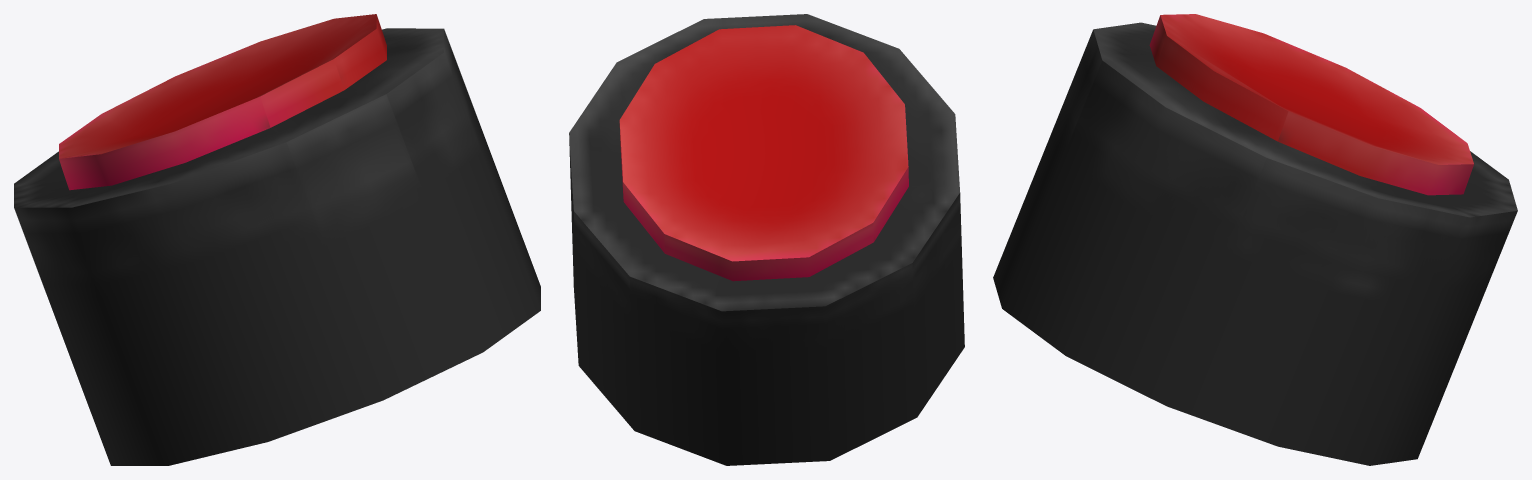
Rendered from red_button.fbx.
The picture shows the model from 3 angles, left to right: view 1: azimuth 30°, elevation 25°; view 2: azimuth 150°, elevation 25°; view 3: azimuth 270°, elevation 25°; orthographic projection. The views are drawn at different scales.
Visible parts, largest first — view 1: Cylinder.002; view 2: Cylinder.002; view 3: Cylinder.002.
Boxes of the visible parts, x1,y1,x2,y2 form: Cylinder.002: (14,14,540,465); Cylinder.002: (569,14,964,465); Cylinder.002: (993,14,1517,465).
Size of the model in its own units: 76.32 by 70.53 by 81.39.
1 material, 1 textured.
